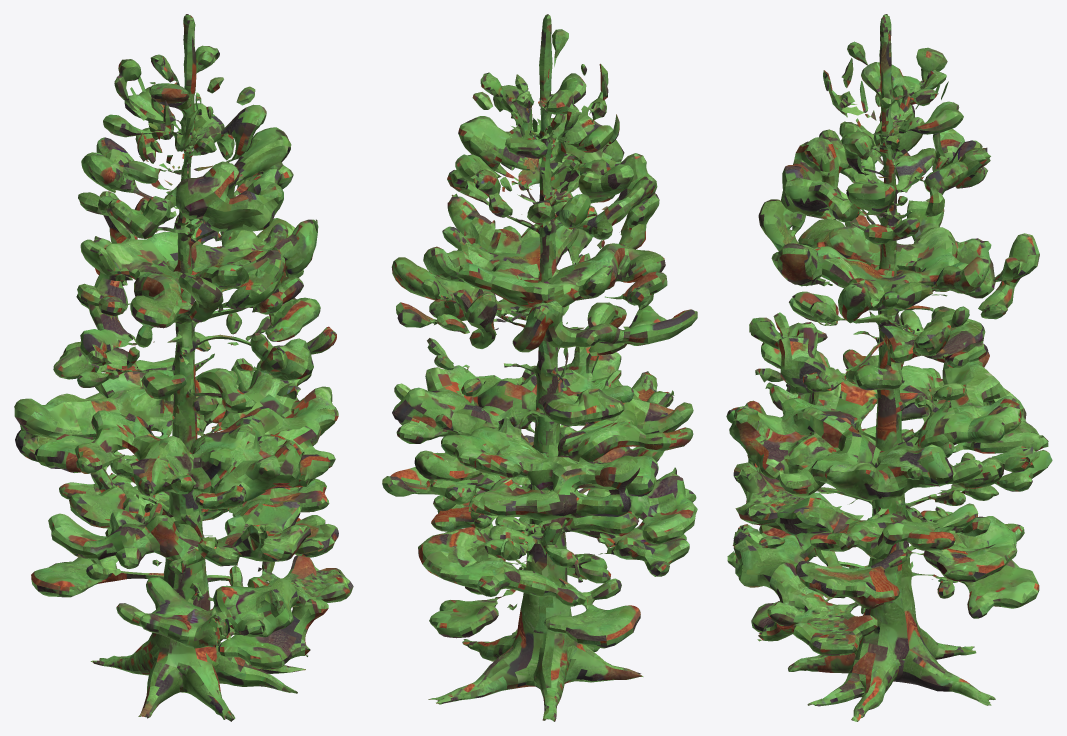
The model's file is veg_conifer_pine_01.obj.
The picture shows the model from 3 angles, left to right: view 1: azimuth 30°, elevation 25°; view 2: azimuth 150°, elevation 25°; view 3: azimuth 270°, elevation 25°; orthographic projection.
Parts seen in each view (by area): view 1: veg_conifer_pine_01; view 2: veg_conifer_pine_01; view 3: veg_conifer_pine_01.
Boxes of the visible parts, x1,y1,x2,y2 form: veg_conifer_pine_01: [14, 14, 353, 721]; veg_conifer_pine_01: [382, 14, 697, 721]; veg_conifer_pine_01: [726, 14, 1052, 721].
Bounding box in the file's own units: 9.13 × 21.21 × 9.5.
Materials: 1 (1 with a texture image).
